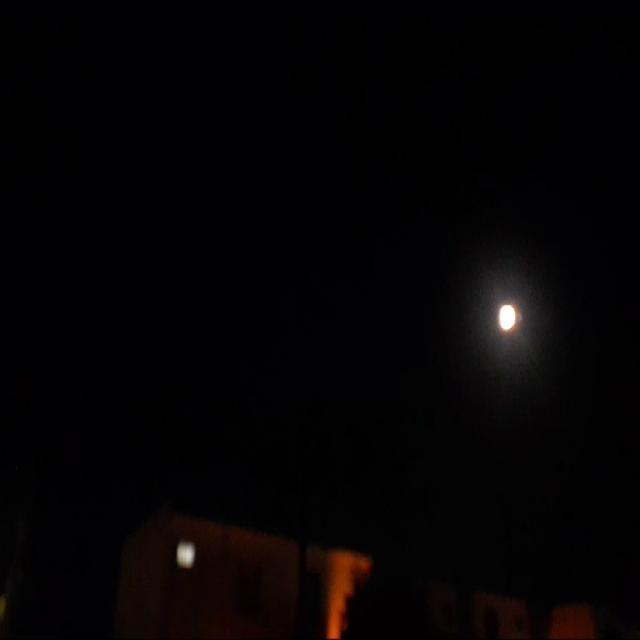moon: (495, 297, 518, 330)
